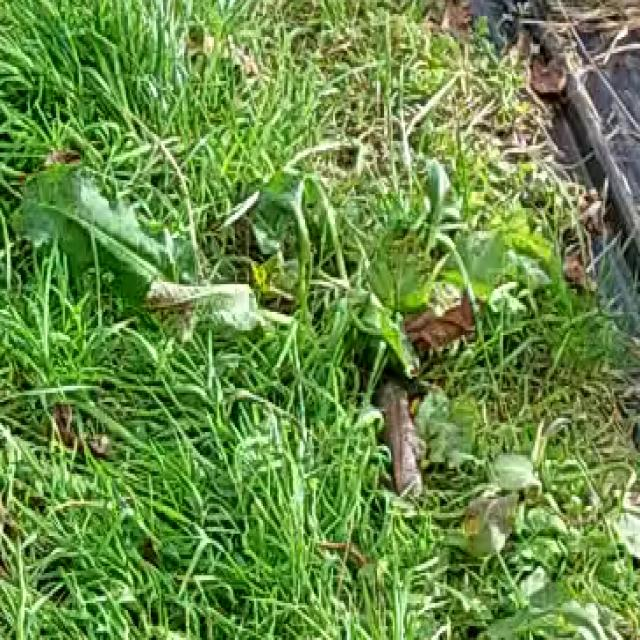organic waste: (19, 124, 493, 400)
